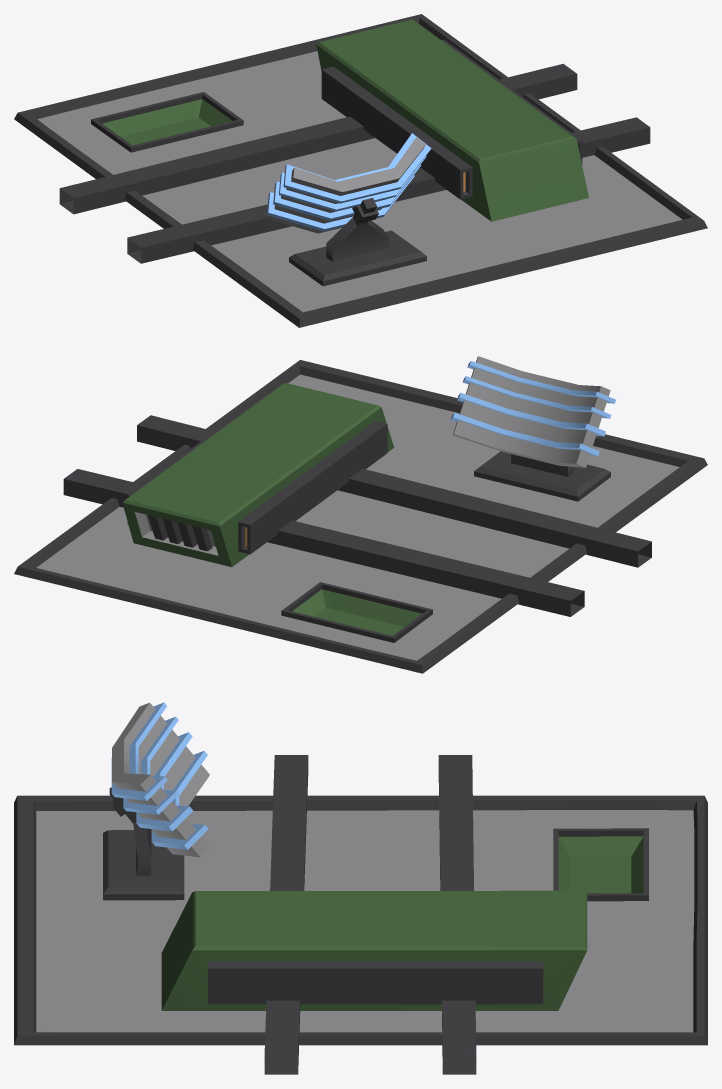
Rendered from pod_roof.fbx.
The picture shows the model from 3 angles, top to bottom: view 1: azimuth 30°, elevation 25°; view 2: azimuth 150°, elevation 25°; view 3: azimuth 270°, elevation 25°; orthographic projection. The views are drawn at different scales.
Visible parts, largest first — view 1: polySurface202, polySurface204, polySurface203, polySurface206; view 2: polySurface202, polySurface203, polySurface204, polySurface206; view 3: polySurface202, polySurface203, polySurface206, polySurface204.
Boxes of the visible parts, left/top/right/bottom form: polySurface202: left=14, top=14, right=707, bottom=327; polySurface204: left=59, top=63, right=577, bottom=214; polySurface203: left=267, top=133, right=431, bottom=233; polySurface206: left=127, top=117, right=650, bottom=263; polySurface202: left=14, top=360, right=707, bottom=673; polySurface203: left=451, top=356, right=615, bottom=467; polySurface204: left=63, top=469, right=584, bottom=616; polySurface206: left=137, top=415, right=651, bottom=567; polySurface202: left=14, top=787, right=707, bottom=1045; polySurface203: left=111, top=702, right=210, bottom=857; polySurface206: left=264, top=755, right=308, bottom=1074; polySurface204: left=438, top=755, right=476, bottom=1074.
Size of the model in its own units: 927 by 211 by 907.
